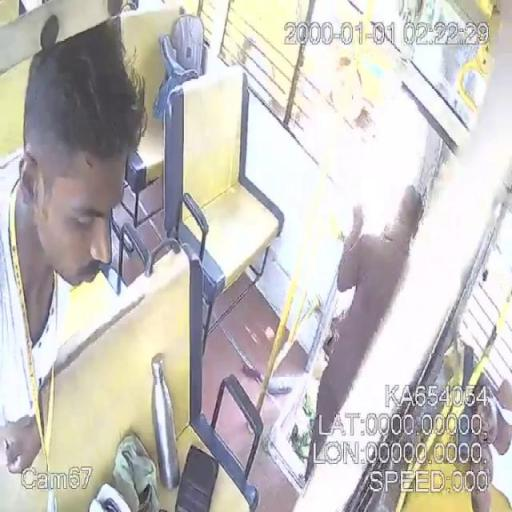persona: (1, 12, 149, 482), (301, 182, 427, 488)
